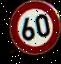Speed Limit -60-: (4, 0, 61, 59)
